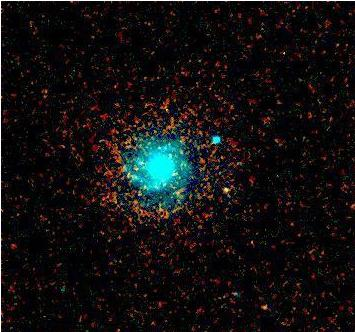star: (248, 289, 278, 319)
